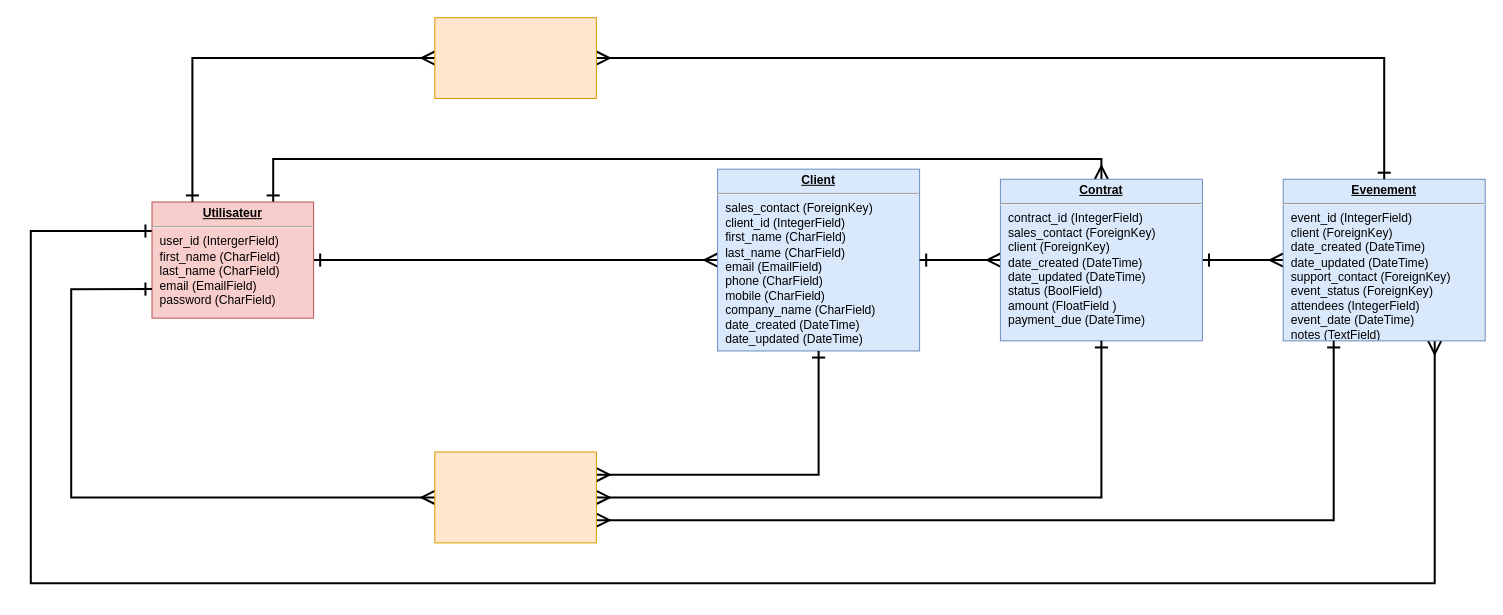
The diagram is 1503 pixels wide and 615 high, and some of its shapes have lost their labels. The centre of each missing label's shape, as x and y in pixels:
"Support user_id (IntegerField) event_id (IntegerField)" goes at (515,57).
"Vendeur user_id (IntegerField) client_id (IntegerField)" goes at (515,497).
